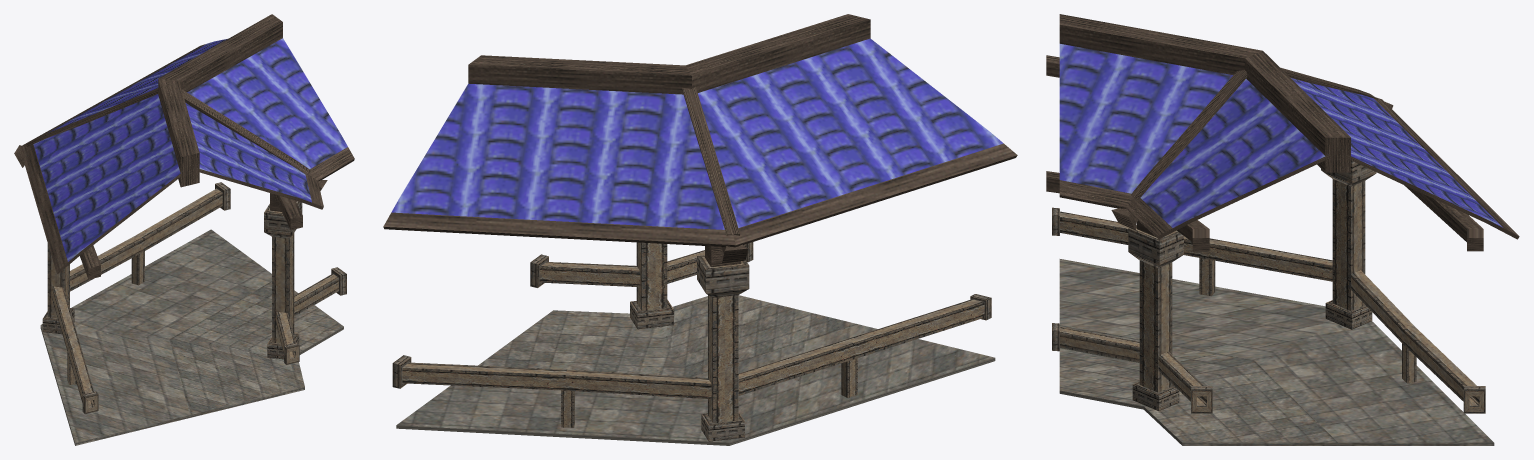
Rendered from corredorjpcurva-b2.fbx.
3 views of the same model, side by side, from view 1: azimuth 30°, elevation 25°; view 2: azimuth 150°, elevation 25°; view 3: azimuth 270°, elevation 25° (orthographic). The views are drawn at different scales.
Parts seen in each view (by area): view 1: Cube.001; view 2: Cube.001; view 3: Cube.001.
Boxes of the visible parts, bbox=[...] form: Cube.001: bbox=[14, 14, 354, 445]; Cube.001: bbox=[383, 14, 1017, 445]; Cube.001: bbox=[1046, 14, 1519, 445].
Bounding box in the file's own units: 4.21 × 3.08 × 4.24.
